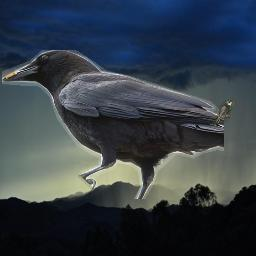Crow: (2, 50, 224, 199)
Cuckoo: (212, 100, 234, 125)
